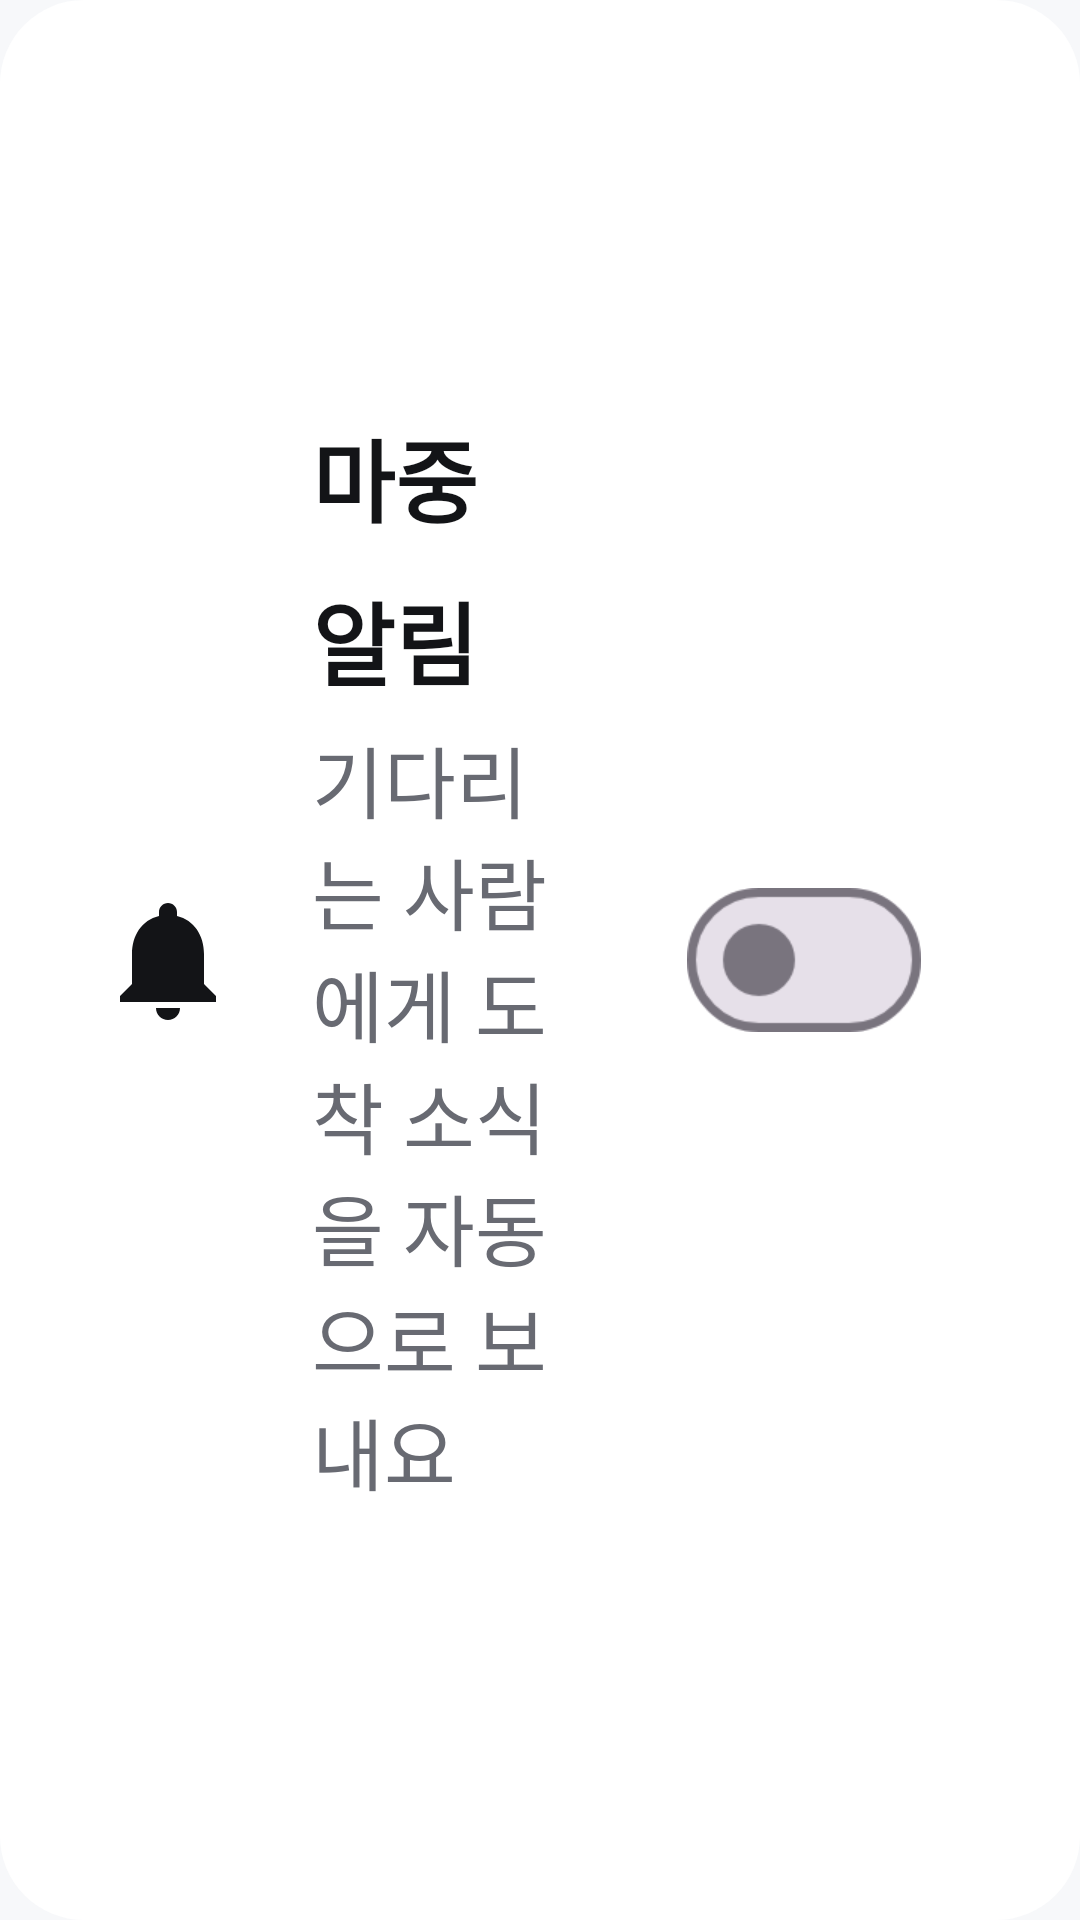

Icon bounding boxes for this 1080×1920 phone screenshot, format (x1, y1, x2, y2):
bell: (120, 903, 216, 1020)
